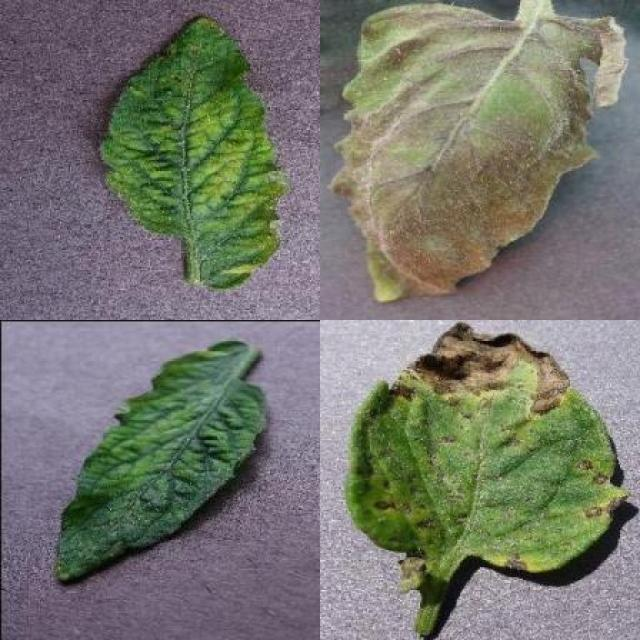Late Blight: (324, 0, 630, 303)
Mosaic Virus: (54, 336, 266, 584), (99, 11, 284, 290)
Septoria: (347, 322, 632, 574)
